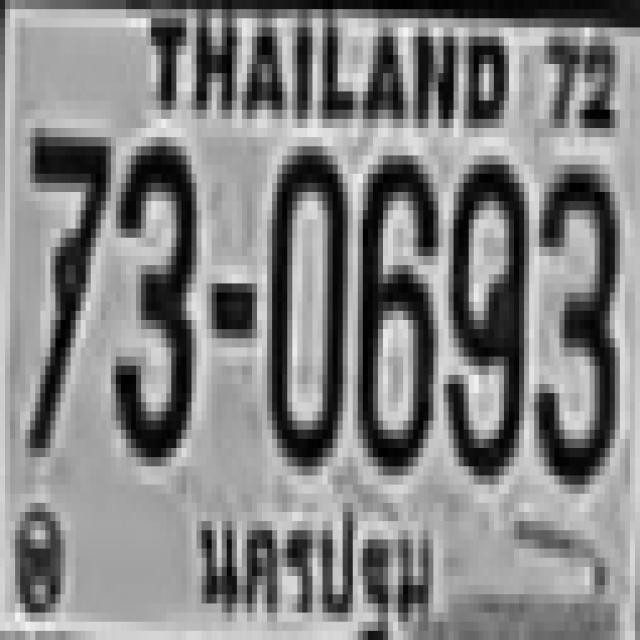0: (267, 137, 343, 457)
3: (529, 156, 615, 476), (111, 132, 191, 452)
6: (353, 146, 433, 466)
7: (25, 128, 106, 448)
9: (444, 151, 524, 471)
NPT: (188, 492, 444, 640)
